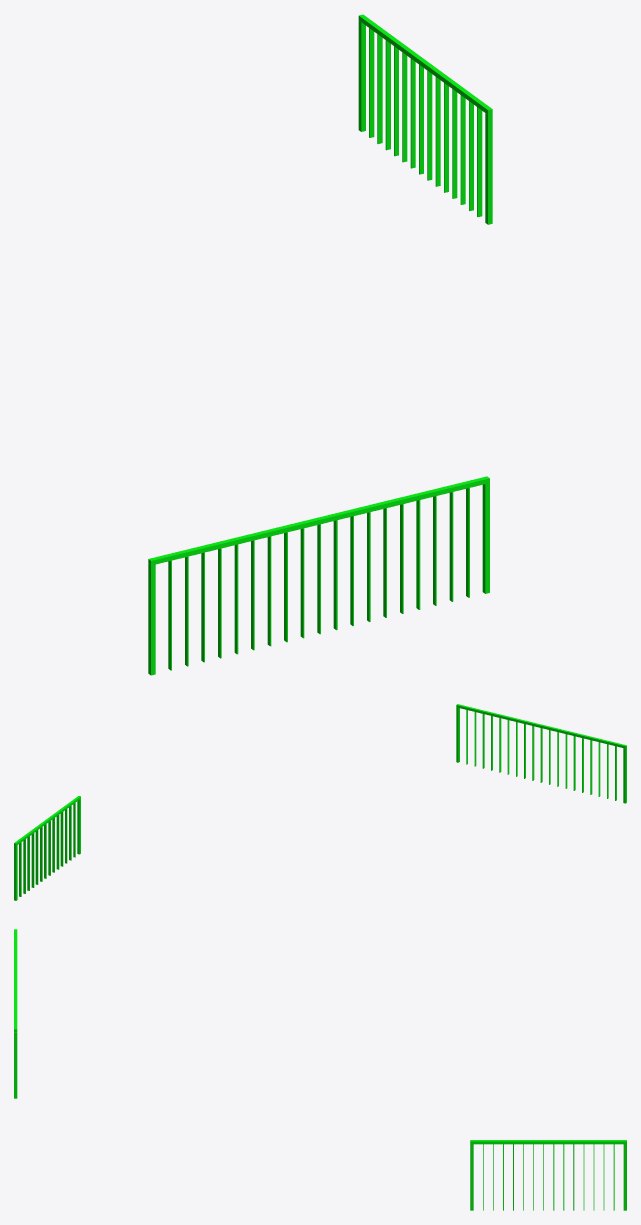
The model's file is Apartment_Railings.FBX.
3 views of the same model, one above another, from view 1: azimuth 30°, elevation 25°; view 2: azimuth 150°, elevation 25°; view 3: azimuth 270°, elevation 25° (orthographic). The views are drawn at different scales.
Visible parts, largest first — view 1: Railing_Terrace_Livingroom, Railing_Terrace_Kitchen; view 2: Railing_Terrace_Livingroom, Railing_Terrace_Kitchen; view 3: Railing_Terrace_Kitchen, Railing_Terrace_Livingroom.
Boxes of the visible parts, <box> form: Railing_Terrace_Livingroom: <box>148,476,489,675</box>; Railing_Terrace_Kitchen: <box>358,14,492,224</box>; Railing_Terrace_Livingroom: <box>456,704,626,803</box>; Railing_Terrace_Kitchen: <box>14,796,80,900</box>; Railing_Terrace_Kitchen: <box>470,1140,626,1210</box>; Railing_Terrace_Livingroom: <box>14,929,17,1098</box>.
Size of the model in its own units: 6.24 by 0.95 by 7.61.
